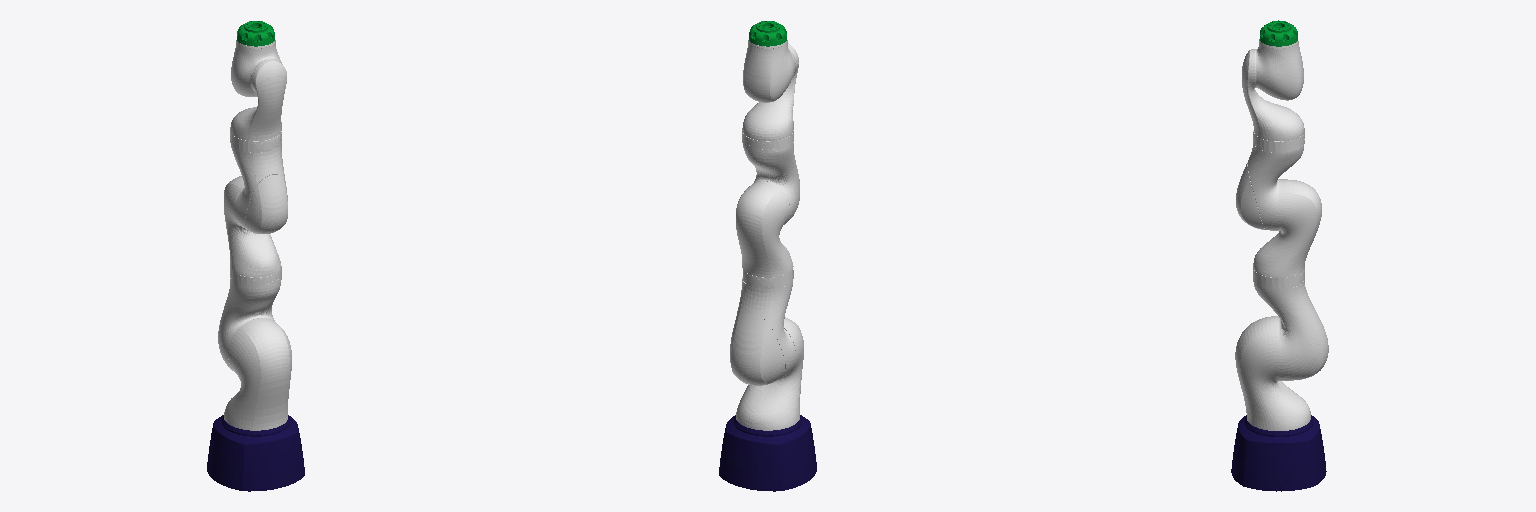
robot.urdf — lbrMed:
<?xml version="1.0" encoding="utf-8"?>
<!-- This URDF was automatically created by SolidWorks to URDF Exporter! Originally created by [author] ([email redacted]) 
     Commit Version: 1.5.1-0-g916b5db  Build Version: 1.5.7152.31018
     For more information, please see http://wiki.ros.org/sw_urdf_exporter -->
<robot
  name="lbrMed">
  <link
    name="LBRMed_base">
    <inertial>
      <origin
        xyz="-0.0018556 4.9506E-08 0.077758"
        rpy="0 0 0" />
      <mass
        value="6.0056" />
      <inertia
        ixx="0.032885"
        ixy="2.9498E-08"
        ixz="-0.00058157"
        iyy="0.033522"
        iyz="-7.2172E-09"
        izz="0.045495" />
    </inertial>
    <visual>
      <origin
        xyz="0 0 0"
        rpy="0 0 0" />
      <geometry>
        <mesh
          filename="LBRMed_base.STL" />
      </geometry>
      <material
        name="">
        <color
          rgba="0.13 0.1 0.33 1" />
      </material>
    </visual>
    <collision>
      <origin
        xyz="0 0 0"
        rpy="0 0 0" />
      <geometry>
        <mesh
          filename="LBRMed_base.STL" />
      </geometry>
    </collision>
  </link>
  <link
    name="LBRMed_shoulder">
    <inertial>
      <origin
        xyz="-1.0921E-06 -0.033794 0.1277"
        rpy="0 0 0" />
      <mass
        value="4.1086" />
      <inertia
        ixx="0.032982"
        ixy="4.1814E-08"
        ixz="3.7416E-07"
        iyy="0.033274"
        iyz="0.0049257"
        izz="0.012326" />
    </inertial>
    <visual>
      <origin
        xyz="0 0 0"
        rpy="0 0 0" />
      <geometry>
        <mesh
          filename="LBRMed_shoulder.STL" />
      </geometry>
      <material
        name="">
        <color
          rgba="0.9 0.9 0.9 1" />
      </material>
    </visual>
    <collision>
      <origin
        xyz="0 0 0"
        rpy="0 0 0" />
      <geometry>
        <mesh
          filename="LBRMed_shoulder.STL" />
      </geometry>
    </collision>
  </link>
  <joint
    name="LBRMed_joint1"
    type="revolute">
    <origin
      xyz="0 0 0.1522"
      rpy="0 0 0" />
    <parent
      link="LBRMed_base" />
    <child
      link="LBRMed_shoulder" />
    <axis
      xyz="0 0 -1" />
    <limit
      lower="-3.1416"
      upper="3.1416"
      effort="10"
      velocity="3" />
  </joint>
  <link
    name="LBRMed_lower_arm">
    <inertial>
      <origin
        xyz="0.00013064 -0.07633 0.037544"
        rpy="0 0 0" />
      <mass
        value="4.4185" />
      <inertia
        ixx="0.04286"
        ixy="-4.2906E-05"
        ixz="-2.4964E-05"
        iyy="0.012833"
        iyz="-0.0077921"
        izz="0.041927" />
    </inertial>
    <visual>
      <origin
        xyz="0 0 0"
        rpy="0 0 0" />
      <geometry>
        <mesh
          filename="LBRMed_lower_arm.STL" />
      </geometry>
      <material
        name="">
        <color
          rgba="0.9 0.9 0.9 1" />
      </material>
    </visual>
    <collision>
      <origin
        xyz="0 0 0"
        rpy="0 0 0" />
      <geometry>
        <mesh
          filename="LBRMed_lower_arm.STL" />
      </geometry>
    </collision>
  </link>
  <joint
    name="LBRMed_joint2"
    type="revolute">
    <origin
      xyz="0 0 0.2078"
      rpy="-1.5708 0 0" />
    <parent
      link="LBRMed_shoulder" />
    <child
      link="LBRMed_lower_arm" />
    <axis
      xyz="0 0 -1" />
    <limit
      lower="-3.1416"
      upper="3.1416"
      effort="10"
      velocity="3" />
  </joint>
  <link
    name="LBRMed_elbow">
    <inertial>
      <origin
        xyz="1.8351E-06 0.034909 0.11381"
        rpy="0 0 0" />
      <mass
        value="2.6884" />
      <inertia
        ixx="0.016871"
        ixy="9.3037E-08"
        ixz="-1.4954E-07"
        iyy="0.016102"
        iyz="-0.0029863"
        izz="0.005981" />
    </inertial>
    <visual>
      <origin
        xyz="0 0 0"
        rpy="0 0 0" />
      <geometry>
        <mesh
          filename="LBRMed_elbow.STL" />
      </geometry>
      <material
        name="">
        <color
          rgba="0.9 0.9 0.9 1" />
      </material>
    </visual>
    <collision>
      <origin
        xyz="0 0 0"
        rpy="0 0 0" />
      <geometry>
        <mesh
          filename="LBRMed_elbow.STL" />
      </geometry>
    </collision>
  </link>
  <joint
    name="LBRMed_joint3"
    type="revolute">
    <origin
      xyz="0 -0.2373 0"
      rpy="1.5708 0 0" />
    <parent
      link="LBRMed_lower_arm" />
    <child
      link="LBRMed_elbow" />
    <axis
      xyz="0 0 -1" />
    <limit
      lower="-3.1416"
      upper="3.1416"
      effort="10"
      velocity="3" />
  </joint>
  <link
    name="LBRMed_upper_arm">
    <inertial>
      <origin
        xyz="-7.4267E-08 0.086942 0.02979"
        rpy="0 0 0" />
      <mass
        value="3.2026" />
      <inertia
        ixx="0.025176"
        ixy="-7.1194E-09"
        ixz="2.082E-07"
        iyy="0.0076769"
        iyz="0.004677"
        izz="0.023892" />
    </inertial>
    <visual>
      <origin
        xyz="0 0 0"
        rpy="0 0 0" />
      <geometry>
        <mesh
          filename="LBRMed_upper_arm.STL" />
      </geometry>
      <material
        name="">
        <color
          rgba="0.9 0.9 0.9 1" />
      </material>
    </visual>
    <collision>
      <origin
        xyz="0 0 0"
        rpy="0 0 0" />
      <geometry>
        <mesh
          filename="LBRMed_upper_arm.STL" />
      </geometry>
    </collision>
  </link>
  <joint
    name="LBRMed_joint4"
    type="revolute">
    <origin
      xyz="0 0.0005 0.1827"
      rpy="1.5708 0 0" />
    <parent
      link="LBRMed_elbow" />
    <child
      link="LBRMed_upper_arm" />
    <axis
      xyz="0 0 -1" />
    <limit
      lower="-3.1416"
      upper="3.1416"
      effort="10"
      velocity="3" />
  </joint>
  <link
    name="LBRMed_wrist1">
    <inertial>
      <origin
        xyz="9.5301E-07 -0.029822 0.066966"
        rpy="0 0 0" />
      <mass
        value="1.2146" />
      <inertia
        ixx="0.0067395"
        ixy="2.5624E-08"
        ixz="8.1717E-09"
        iyy="0.0056681"
        iyz="0.0022283"
        izz="0.0030564" />
    </inertial>
    <visual>
      <origin
        xyz="0 0 0"
        rpy="0 0 0" />
      <geometry>
        <mesh
          filename="LBRMed_wrist1.STL" />
      </geometry>
      <material
        name="">
        <color
          rgba="0.9 0.9 0.9 1" />
      </material>
    </visual>
    <collision>
      <origin
        xyz="0 0 0"
        rpy="0 0 0" />
      <geometry>
        <mesh
          filename="LBRMed_wrist1.STL" />
      </geometry>
    </collision>
  </link>
  <joint
    name="LBRMed_joint5"
    type="revolute">
    <origin
      xyz="0 0.2168 0.0005"
      rpy="-1.5708 0 0" />
    <parent
      link="LBRMed_upper_arm" />
    <child
      link="LBRMed_wrist1" />
    <axis
      xyz="0 0 -1" />
    <limit
      lower="-3.1416"
      upper="3.1416"
      effort="10"
      velocity="3" />
  </joint>
  <link
    name="LBRMed_wrist2">
    <inertial>
      <origin
        xyz="1.7505E-06 -0.0049557 0.061029"
        rpy="0 0 0" />
      <mass
        value="1.9087" />
      <inertia
        ixx="0.0056122"
        ixy="-3.928E-08"
        ixz="4.0496E-07"
        iyy="0.0036753"
        iyz="-0.00024707"
        izz="0.0054041" />
    </inertial>
    <visual>
      <origin
        xyz="0 0 0"
        rpy="0 0 0" />
      <geometry>
        <mesh
          filename="LBRMed_wrist2.STL" />
      </geometry>
      <material
        name="">
        <color
          rgba="0.9 0.9 0.9 1" />
      </material>
    </visual>
    <collision>
      <origin
        xyz="0 0 0"
        rpy="0 0 0" />
      <geometry>
        <mesh
          filename="LBRMed_wrist2.STL" />
      </geometry>
    </collision>
  </link>
  <joint
    name="LBRMed_joint6"
    type="revolute">
    <origin
      xyz="0 -0.0607 0.1832"
      rpy="-1.5708 0 0" />
    <parent
      link="LBRMed_wrist1" />
    <child
      link="LBRMed_wrist2" />
    <axis
      xyz="0 0 -1" />
    <limit
      lower="-3.1416"
      upper="3.1416"
      effort="10"
      velocity="3.1416" />
  </joint>
  <link
    name="LBRMed_wrist3">
    <inertial>
      <origin
        xyz="-3.0531E-05 -2.9893E-05 0.013782"
        rpy="0 0 0" />
      <mass
        value="0.20609" />
      <inertia
        ixx="0.00013586"
        ixy="1.4059E-08"
        ixz="-6.6731E-09"
        iyy="0.00013585"
        iyz="2.2202E-09"
        izz="0.00023745" />
    </inertial>
    <visual>
      <origin
        xyz="0 0 0"
        rpy="0 0 0" />
      <geometry>
        <mesh
          filename="LBRMed_wrist3.STL" />
      </geometry>
      <material
        name="">
        <color
          rgba="0.05 0.63 0.25 1" />
      </material>
    </visual>
    <collision>
      <origin
        xyz="0 0 0"
        rpy="0 0 0" />
      <geometry>
        <mesh
          filename="LBRMed_wrist3.STL" />
      </geometry>
    </collision>
  </link>
  <joint
    name="LBRMed_joint7"
    type="revolute">
    <origin
      xyz="3.3739E-05 -0.091 0.060728"
      rpy="1.5708 0 0" />
    <parent
      link="LBRMed_wrist2" />
    <child
      link="LBRMed_wrist3" />
    <axis
      xyz="0 0 -1" />
    <limit
      lower="-3.1416"
      upper="3.1416"
      effort="10"
      velocity="3" />
  </joint>
</robot>

--- What the picture shows (computed from the rendered views, not written in the file) ---
Views: 3 orthographic renders of the robot side by side, from view 1: azimuth 30°, elevation 25°; view 2: azimuth 150°, elevation 25°; view 3: azimuth 270°, elevation 25°.
Robot: lbrMed — 8 links, 7 joints (7 revolute); root link LBRMed_base; default pose: every joint at zero.
Links seen in each view (by area): view 1: LBRMed_shoulder, LBRMed_base, LBRMed_upper_arm, LBRMed_wrist1, LBRMed_lower_arm, LBRMed_elbow, LBRMed_wrist2, LBRMed_wrist3; view 2: LBRMed_lower_arm, LBRMed_base, LBRMed_elbow, LBRMed_shoulder, LBRMed_wrist2, LBRMed_upper_arm, LBRMed_wrist1, LBRMed_wrist3; view 3: LBRMed_base, LBRMed_shoulder, LBRMed_lower_arm, LBRMed_elbow, LBRMed_upper_arm, LBRMed_wrist1, LBRMed_wrist2, LBRMed_wrist3.
Link boxes in pixels (x1,y1,x2,y2): LBRMed_shoulder: (224, 318, 291, 430); LBRMed_base: (207, 415, 304, 491); LBRMed_upper_arm: (230, 131, 287, 233); LBRMed_wrist1: (230, 59, 286, 140); LBRMed_lower_arm: (218, 267, 281, 370); LBRMed_elbow: (224, 176, 281, 277); LBRMed_wrist2: (231, 40, 281, 96); LBRMed_wrist3: (237, 21, 274, 46); LBRMed_lower_arm: (730, 270, 795, 385); LBRMed_base: (719, 415, 816, 491); LBRMed_elbow: (736, 181, 793, 277); LBRMed_shoulder: (736, 317, 803, 430); LBRMed_wrist2: (743, 40, 795, 102); LBRMed_upper_arm: (742, 130, 799, 224); LBRMed_wrist1: (742, 43, 798, 140); LBRMed_wrist3: (749, 21, 786, 46); LBRMed_base: (1231, 415, 1326, 491); LBRMed_shoulder: (1235, 316, 1310, 430); LBRMed_lower_arm: (1253, 268, 1328, 380); LBRMed_elbow: (1253, 179, 1321, 277); LBRMed_upper_arm: (1236, 130, 1304, 230); LBRMed_wrist1: (1242, 49, 1304, 141); LBRMed_wrist2: (1256, 39, 1303, 100); LBRMed_wrist3: (1260, 20, 1297, 46).
Size in the robot's own frame: 0.2527 by 0.2585 by 1.31 metres.
8 mesh visuals loaded from 8 distinct referenced files (8 binary STL).